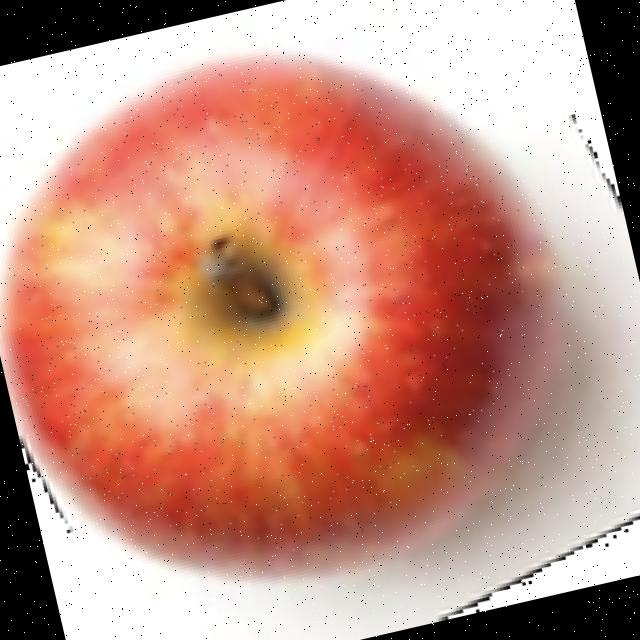apple: (0, 43, 640, 598)
